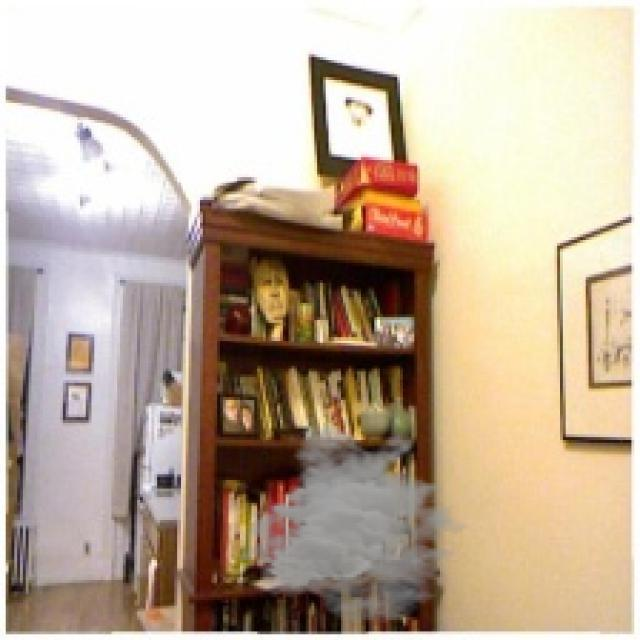Smoke: (237, 423, 477, 626)
